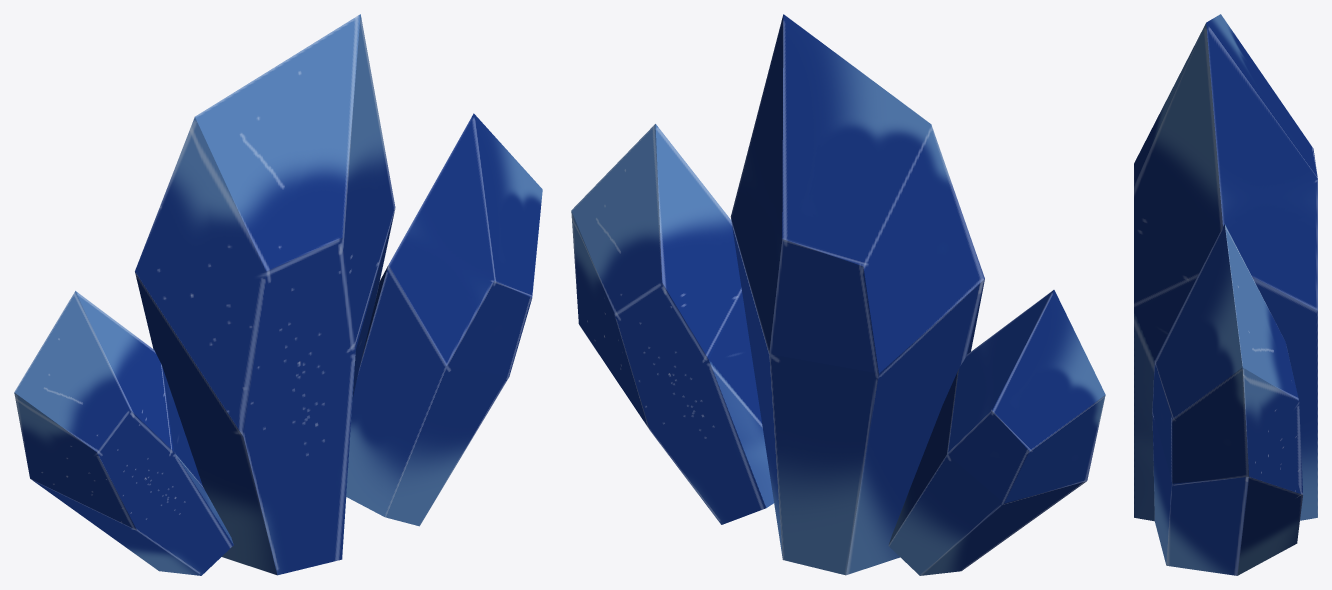
Rendered from crystals.glb.
3 renders of one model, left to right at view 1: azimuth 30°, elevation 25°; view 2: azimuth 150°, elevation 25°; view 3: azimuth 270°, elevation 25°, orthographic. The views are drawn at different scales.
Parts seen in each view (by area): view 1: Cube, Cube.001, Cube.002; view 2: Cube, Cube.001, Cube.002; view 3: Cube, Cube.001.
Part boxes in pixels (<box>): Cube: <box>135,14,395,575</box>; Cube.001: <box>346,113,542,526</box>; Cube.002: <box>14,291,233,575</box>; Cube: <box>730,14,984,575</box>; Cube.001: <box>571,124,773,524</box>; Cube.002: <box>888,290,1105,575</box>; Cube: <box>1134,14,1317,521</box>; Cube.001: <box>1152,224,1303,575</box>.
Bounding box in the file's own units: 6.91 × 6.35 × 1.99.
1 material, 1 textured.
